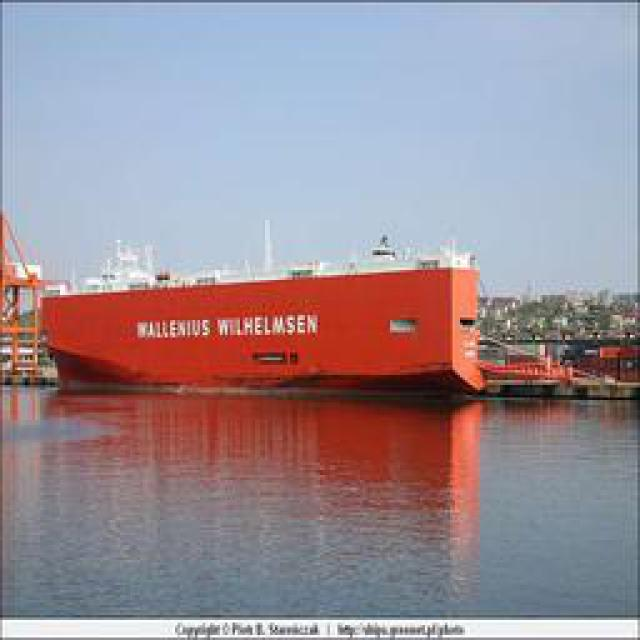Ship: (44, 249, 487, 394)
